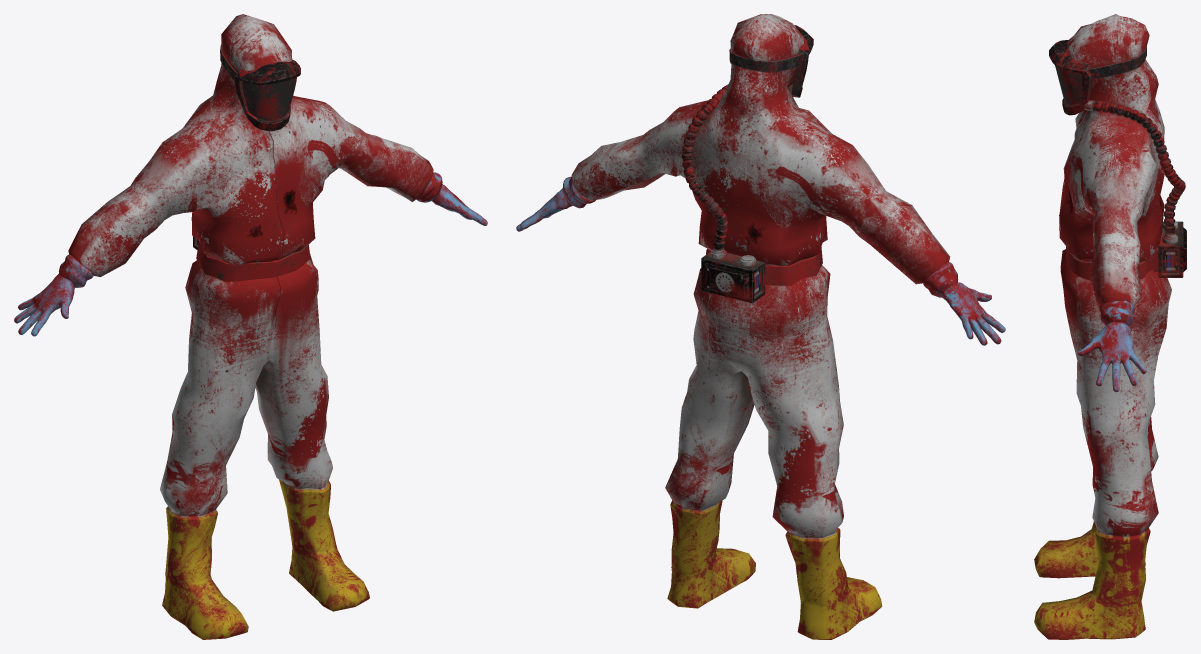
File: horror_corpse.glb
3 views of the same model, side by side, from view 1: azimuth 30°, elevation 25°; view 2: azimuth 150°, elevation 25°; view 3: azimuth 270°, elevation 25° (orthographic). The views are drawn at different scales.
Parts seen in each view (by area): view 1: Corpse_Body_GEO, Corpse_Equipment_GEO; view 2: Corpse_Body_GEO, Corpse_Equipment_GEO; view 3: Corpse_Body_GEO, Corpse_Equipment_GEO.
Boxes of the visible parts, bbox=[...] form: Corpse_Body_GEO: bbox=[14, 14, 487, 639]; Corpse_Equipment_GEO: bbox=[193, 45, 300, 249]; Corpse_Body_GEO: bbox=[516, 14, 1005, 639]; Corpse_Equipment_GEO: bbox=[682, 25, 813, 303]; Corpse_Body_GEO: bbox=[1034, 14, 1171, 639]; Corpse_Equipment_GEO: bbox=[1049, 40, 1186, 277].
Size of the model in its own units: 1.47 by 1.75 by 0.4163.
2 materials, 2 textured.
